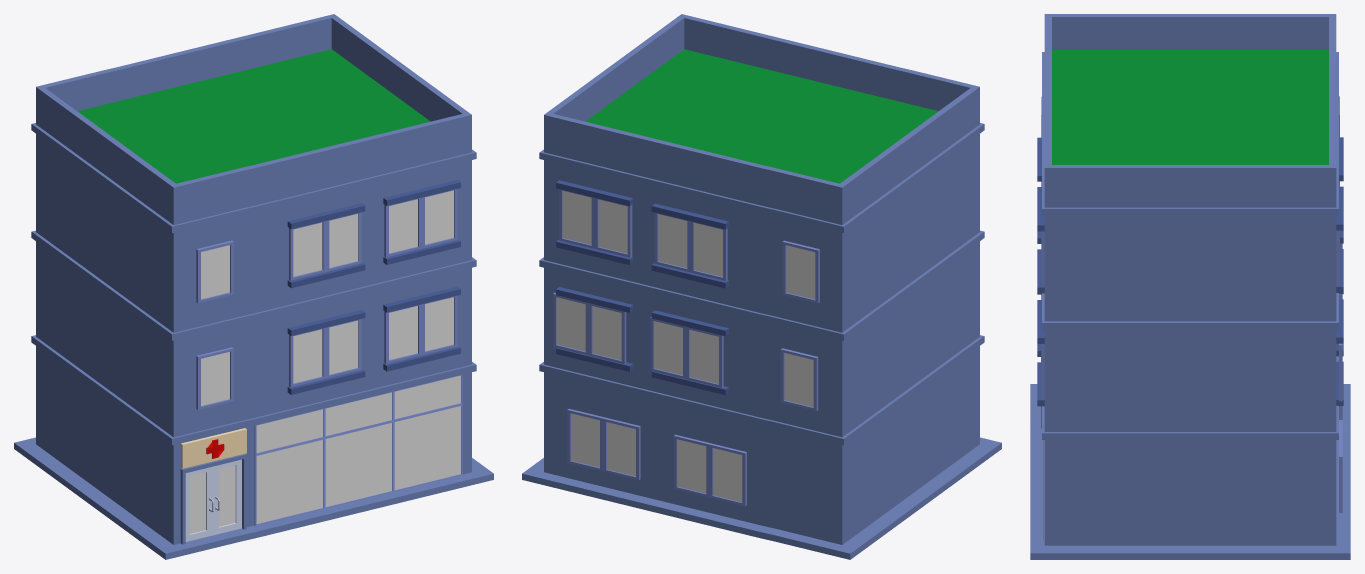
File: building_b.fbx
3 views of the same model, side by side, from view 1: azimuth 30°, elevation 25°; view 2: azimuth 150°, elevation 25°; view 3: azimuth 270°, elevation 25° (orthographic). The views are drawn at different scales.
Visible parts, largest first — view 1: building, roof_floor, store_glass, window_frame.001, window_roof, door.001, store_glass_frame, sign; view 2: building, window_frame.001, roof_floor, window_roof; view 3: building, roof_floor, window_roof, window_frame.001.
Part boxes in pixels (bbox=[...]): building: bbox=[14, 14, 493, 559]; roof_floor: bbox=[77, 49, 430, 183]; store_glass: bbox=[256, 375, 460, 523]; window_frame.001: bbox=[196, 189, 457, 409]; window_roof: bbox=[287, 180, 460, 394]; door.001: bbox=[185, 459, 241, 541]; store_glass_frame: bbox=[254, 374, 462, 525]; sign: bbox=[181, 428, 246, 468]; building: bbox=[522, 14, 1001, 559]; window_frame.001: bbox=[553, 189, 819, 506]; roof_floor: bbox=[585, 49, 938, 183]; window_roof: bbox=[556, 180, 728, 395]; building: bbox=[1030, 14, 1350, 559]; roof_floor: bbox=[1052, 50, 1328, 164]; window_roof: bbox=[1037, 137, 1343, 406]; window_frame.001: bbox=[1041, 96, 1342, 512].
Size of the model in its own units: 1100 by 1165 by 880.
